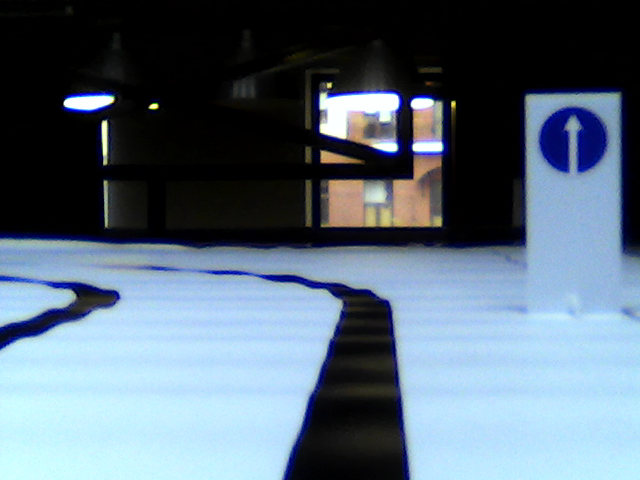forw: (537, 107, 610, 174)
